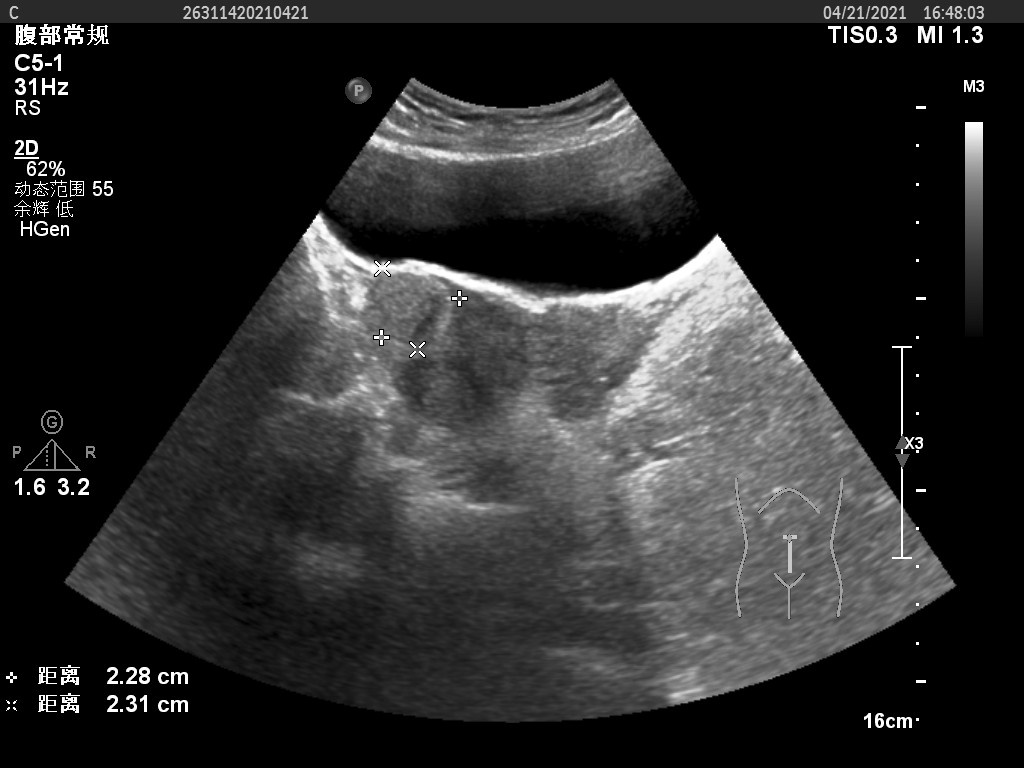肌瘤: (375, 274, 449, 345)
